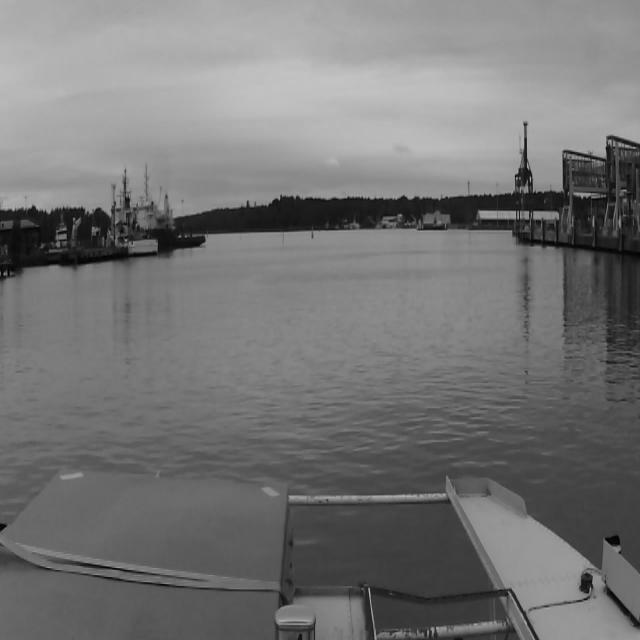buoy: (311, 226, 314, 238), (282, 229, 284, 242)
ship: (101, 157, 219, 264)
